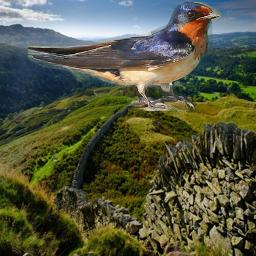Swallow: (28, 2, 221, 111)
